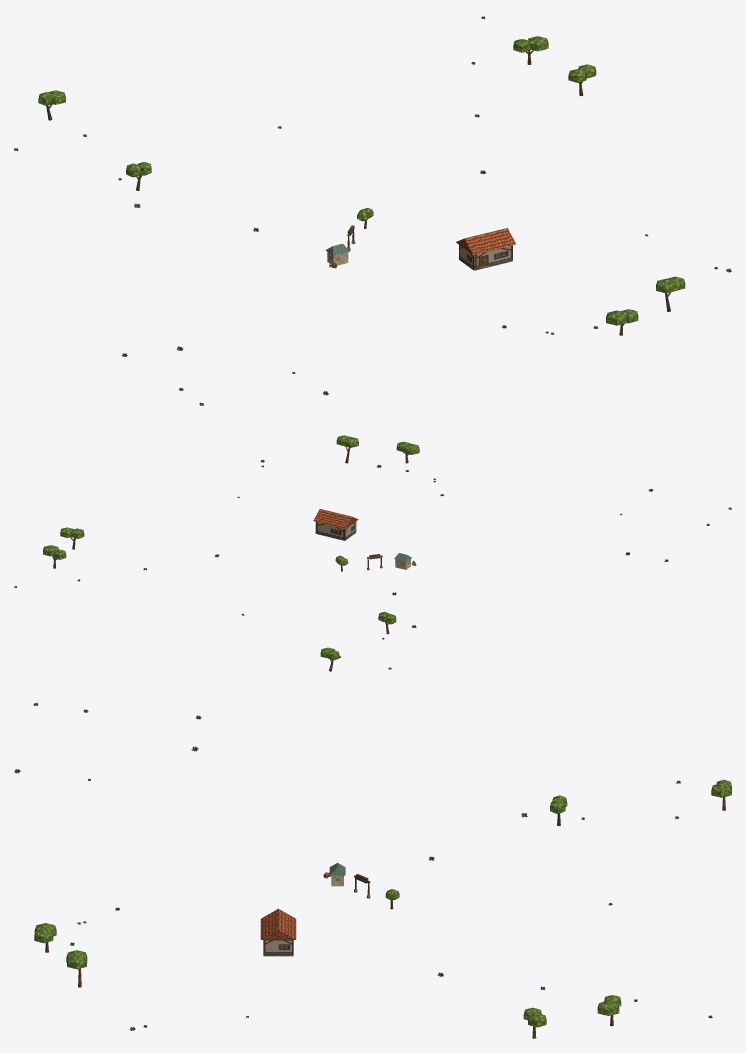
The model's file is FieldCell_2_6.fbx.
The picture shows the model from 3 angles, top to bottom: view 1: azimuth 30°, elevation 25°; view 2: azimuth 150°, elevation 25°; view 3: azimuth 270°, elevation 25°; orthographic projection. The views are drawn at different scales.
Visible parts, largest first — view 1: FieldCell_2_6; view 2: FieldCell_2_6; view 3: FieldCell_2_6.
Boxes of the visible parts, <box> form: FieldCell_2_6: <box>38,36,685,335</box>; FieldCell_2_6: <box>43,435,419,671</box>; FieldCell_2_6: <box>34,779,731,1038</box>.
Bounding box in the file's own units: 15225 × 1334 × 14566.
